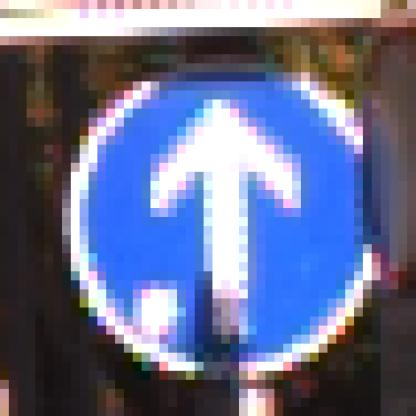AheadOnly: (54, 46, 373, 372)
